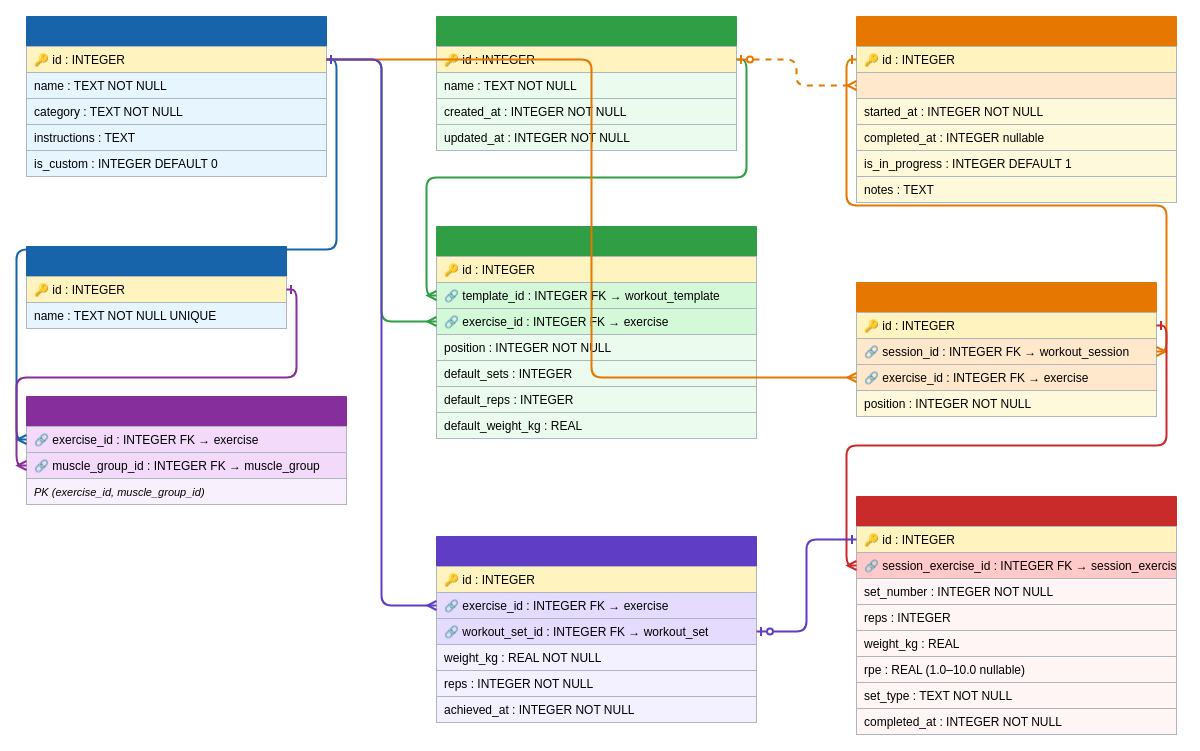
Some shapes in this 1200 by 751 pixel diagram are drawn without their labels. Here are the shapes that lost their labels. From the top down, the box of each, then its label:
(26, 16, 326, 176): exercise
(436, 16, 736, 150): workout_template
(856, 72, 1176, 98): 🔗 template_id : INTEGER FK? → workout_template
(856, 16, 1176, 202): workout_session
(26, 246, 286, 328): muscle_group
(436, 226, 756, 438): template_exercise
(856, 282, 1156, 416): session_exercise
(26, 396, 346, 504): exercise_muscle_group
(436, 536, 756, 722): personal_record
(856, 496, 1176, 734): workout_set
